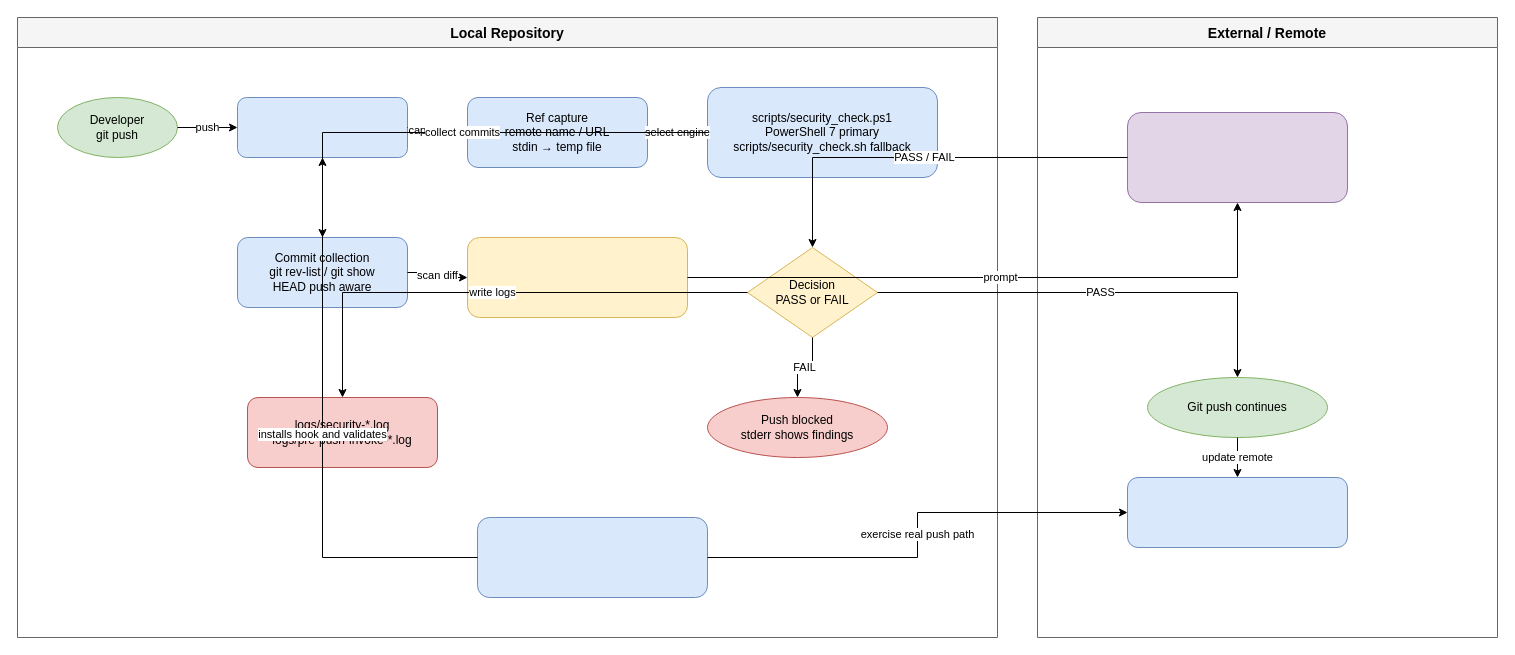
Image size: 1515x655. Some labels were removed from this diagram. The shapes that lost their labels are listed below. From the top down, each one's box as (x1, y1, x2, y2) in pixels, then its label:
(236, 96, 408, 158): hooks/pre-push (bash entrypoint)
(1126, 112, 1348, 202): GitHub Copilot CLI prompt with diff + signals SECURITY_CHECK: PASS / FAIL
(466, 236, 688, 318): Static signals regex scan for secret / XSS / SSRF / command exec
(1126, 476, 1348, 548): Remote repository GitHub / local bare remote
(476, 516, 708, 598): scripts/test-hook.ps1 temporary worktree + local bare remote E2E
